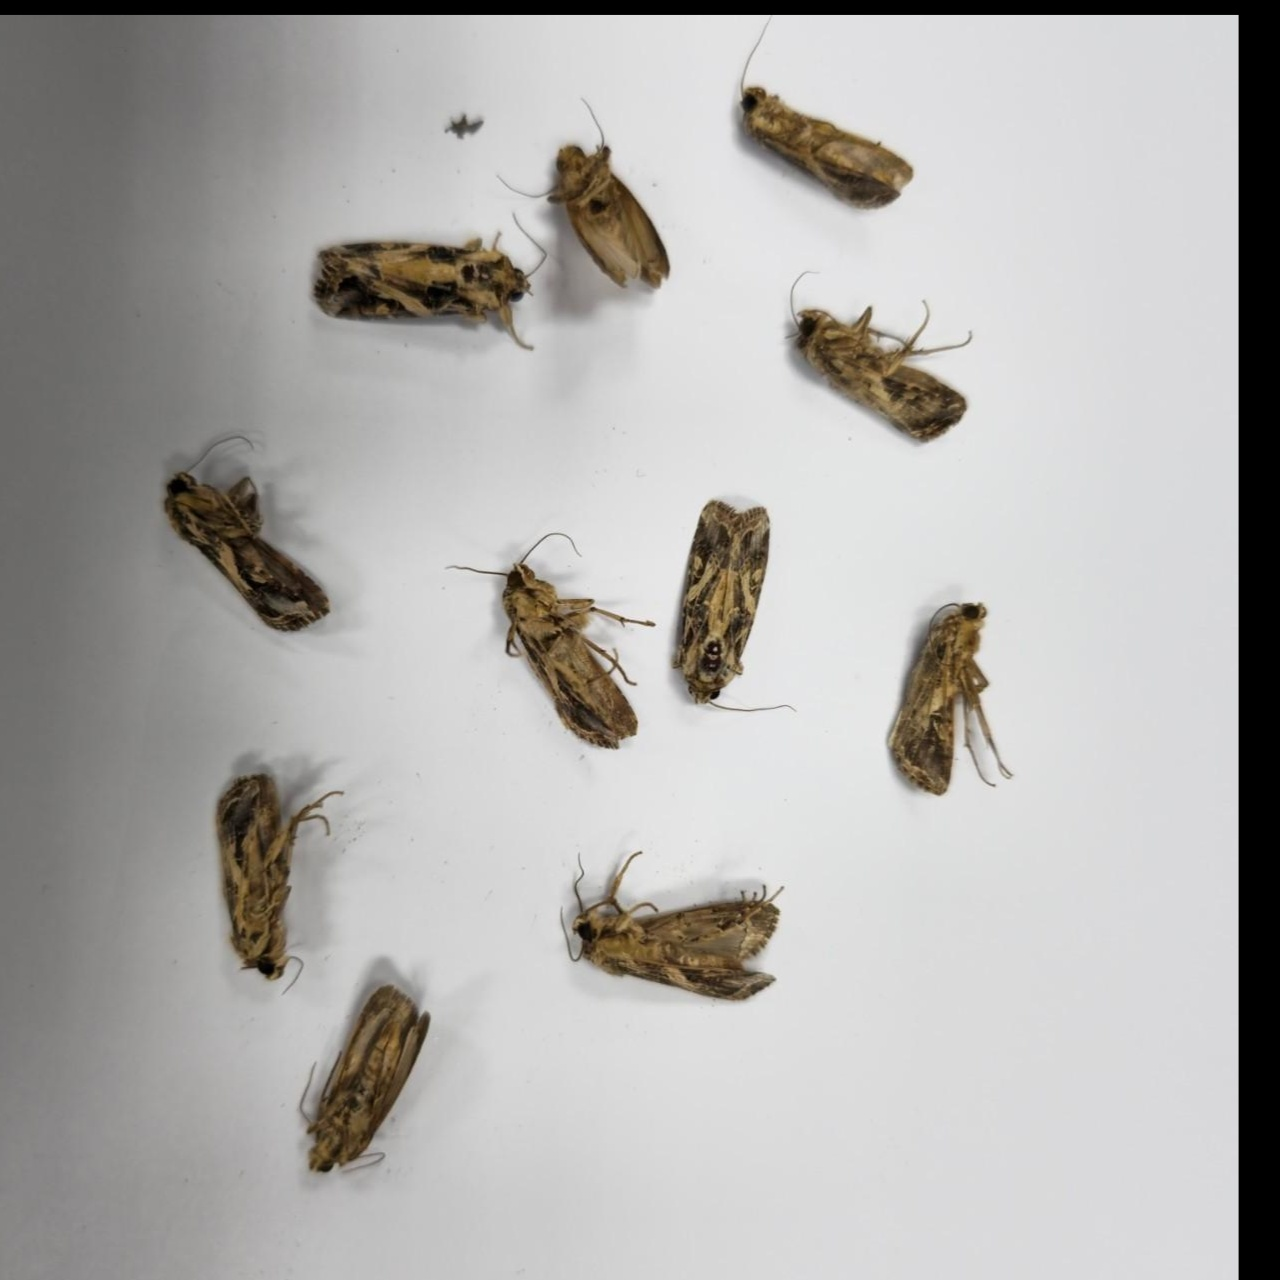Spodoptera litura: (444, 532, 656, 748), (558, 850, 784, 1000), (737, 15, 912, 207), (496, 97, 670, 290), (312, 211, 546, 350), (164, 435, 331, 629), (783, 268, 971, 441), (215, 772, 343, 995), (670, 499, 796, 710), (299, 983, 430, 1172), (885, 602, 1012, 794)
